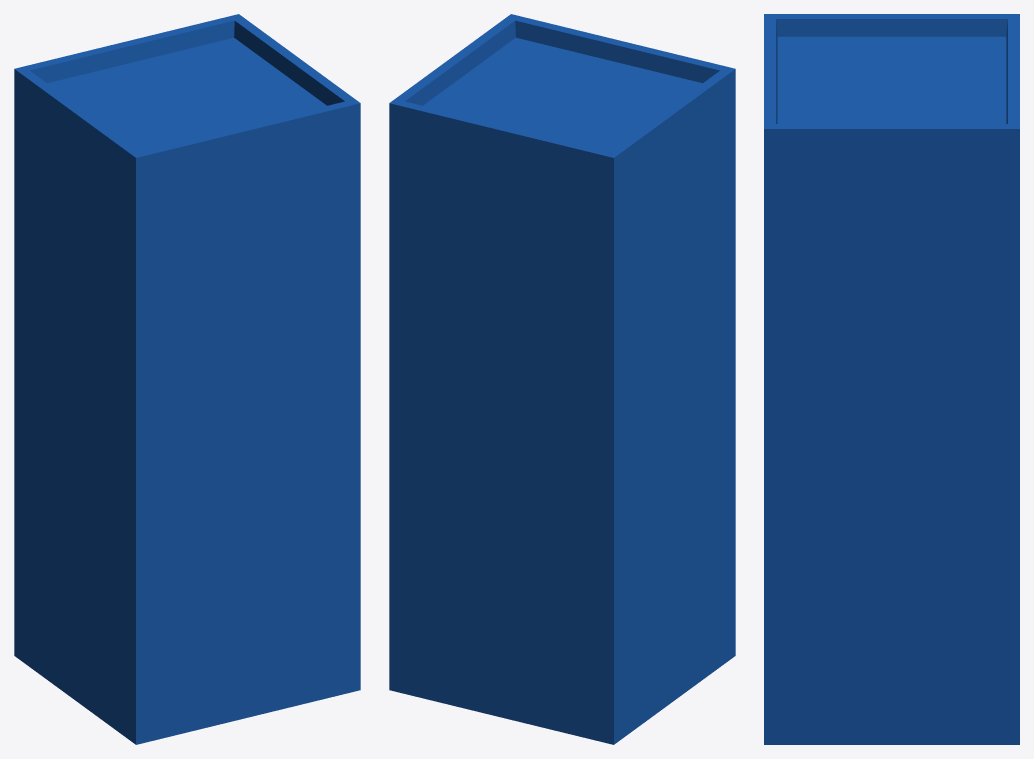
The model's file is Building01.FBX.
3 views of the same model, side by side, from view 1: azimuth 30°, elevation 25°; view 2: azimuth 150°, elevation 25°; view 3: azimuth 270°, elevation 25° (orthographic). The views are drawn at different scales.
Parts seen in each view (by area): view 1: F_Building_003; view 2: F_Building_003; view 3: F_Building_003.
Part boxes in pixels (<box>): F_Building_003: <box>14,14,360,744</box>; F_Building_003: <box>389,14,735,744</box>; F_Building_003: <box>764,14,1019,744</box>.
Bounding box in the file's own units: 571 × 1427 × 537.
